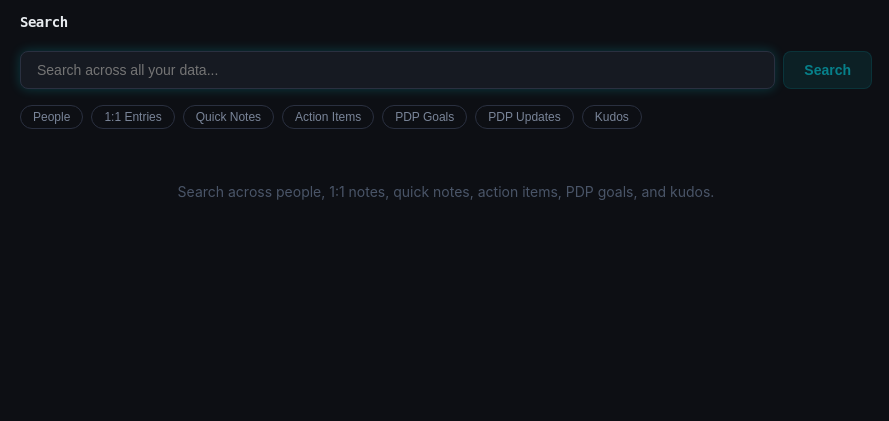
Test case: SearchPage › should display search results
Step 1. Type "alice" into the field with test id "search-input" → (398, 70), box [20,51,775,89]
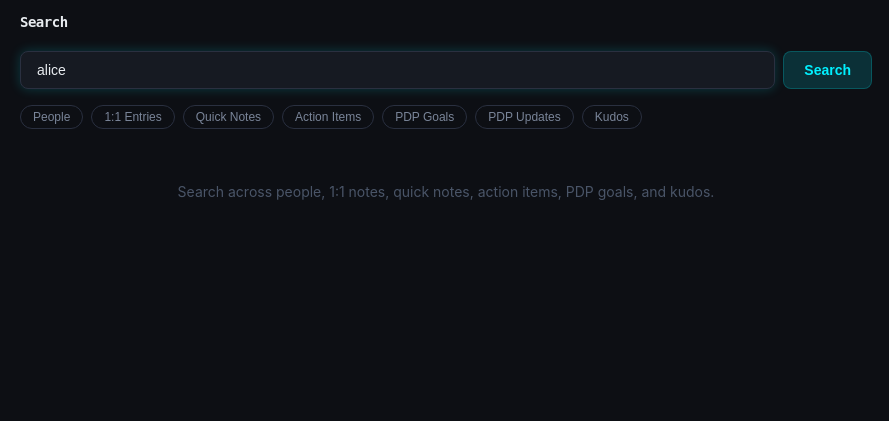
Step 2. Submit the form with test id "search-input", box [20,51,872,89]
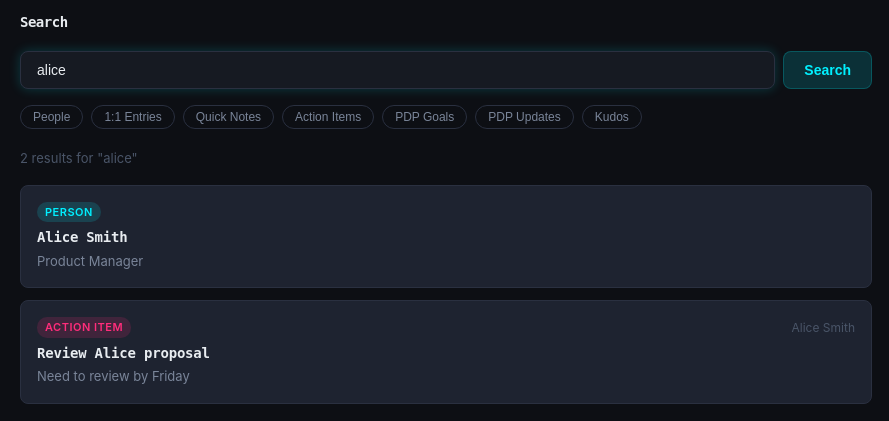
Result: the element with test id "search-results-list" is shown at [20,185,872,404]
Result: the link with test id "search-result-result-1" is shown at [20,185,872,288]
Result: the link with test id "search-result-result-2" is shown at [20,300,872,404]
